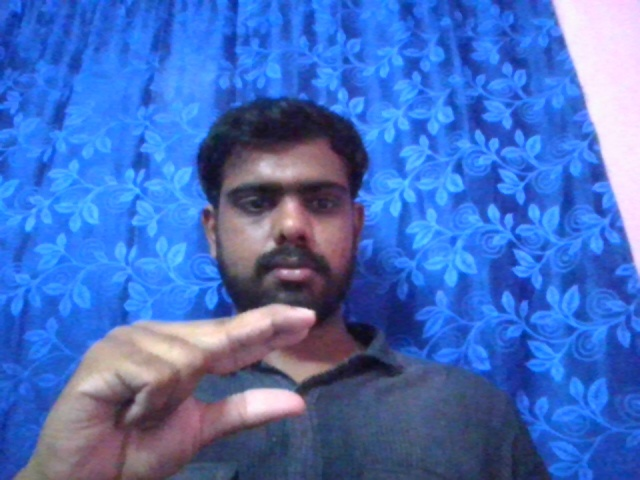No: (46, 292, 318, 467)
